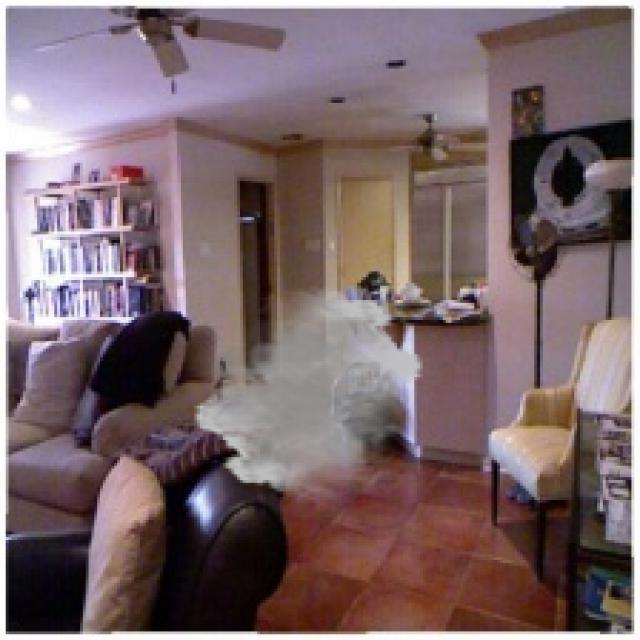Smoke: (191, 286, 426, 497)
